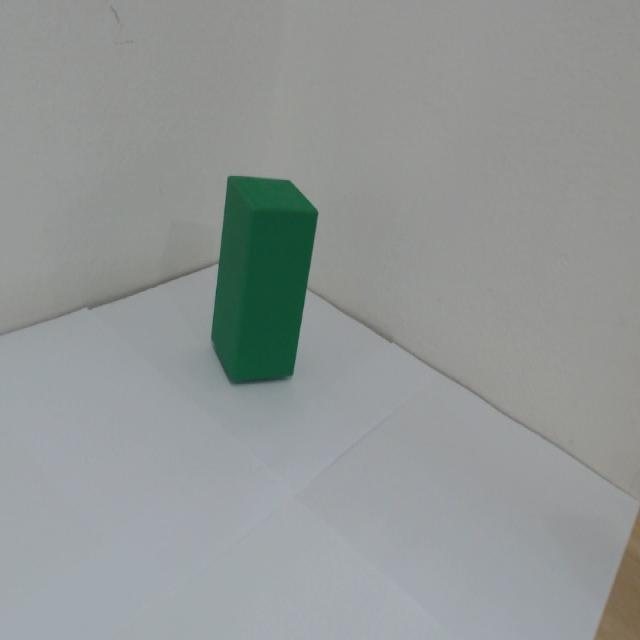cube: (167, 99, 331, 479)
